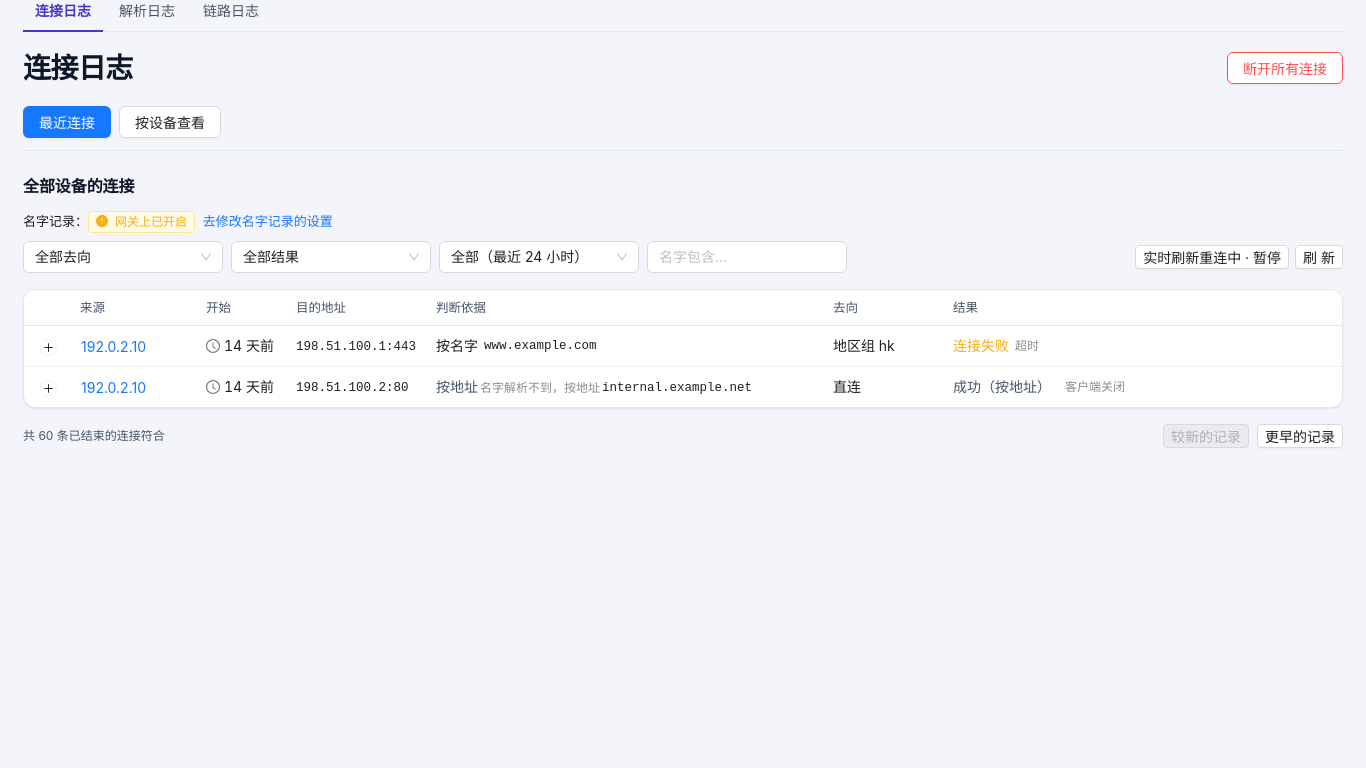
Test: opens a query without waiting for device counts and confirms disconnecting active connections
This screenshot has width=1366, height=768.
Click the button "断开所有连接" at (1285, 68), box [1227,52,1343,84]
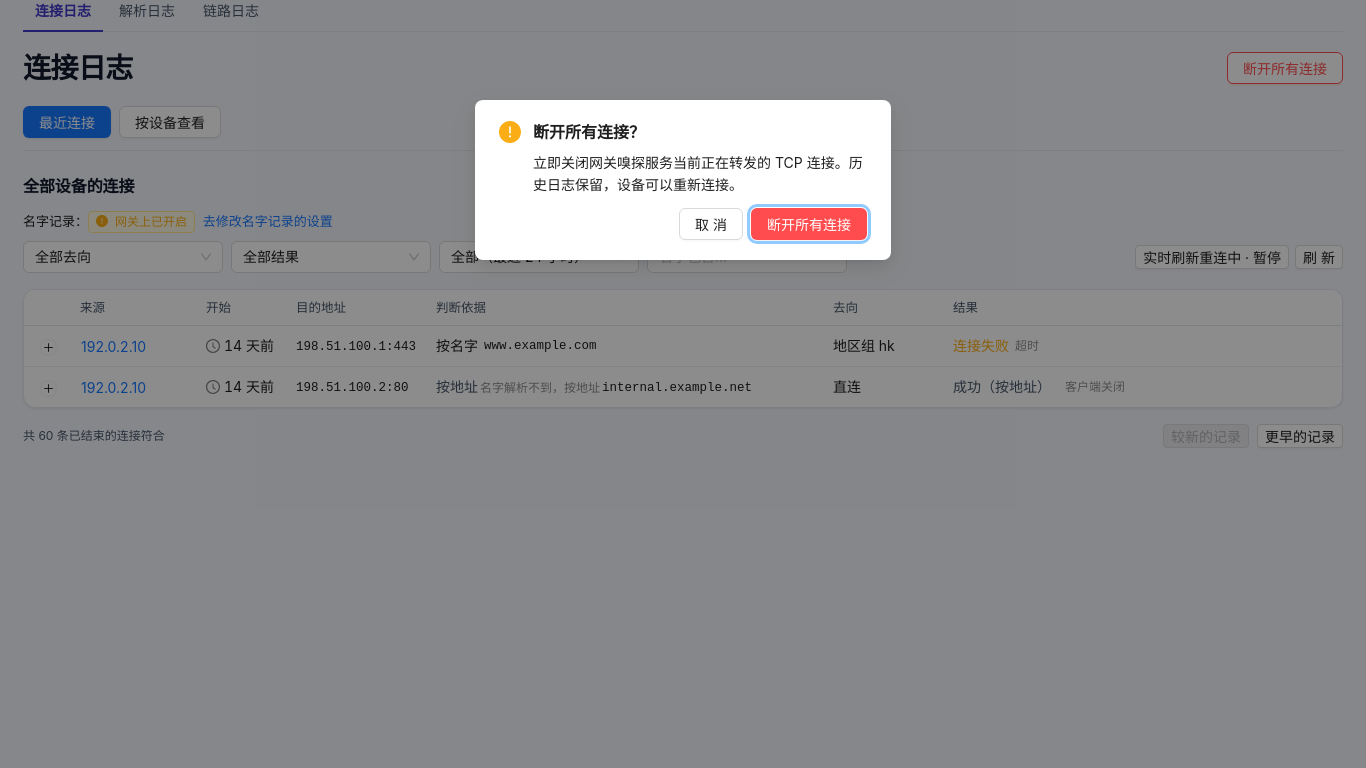
Click the button "断开所有连接" at (809, 224), box [751,208,867,240]
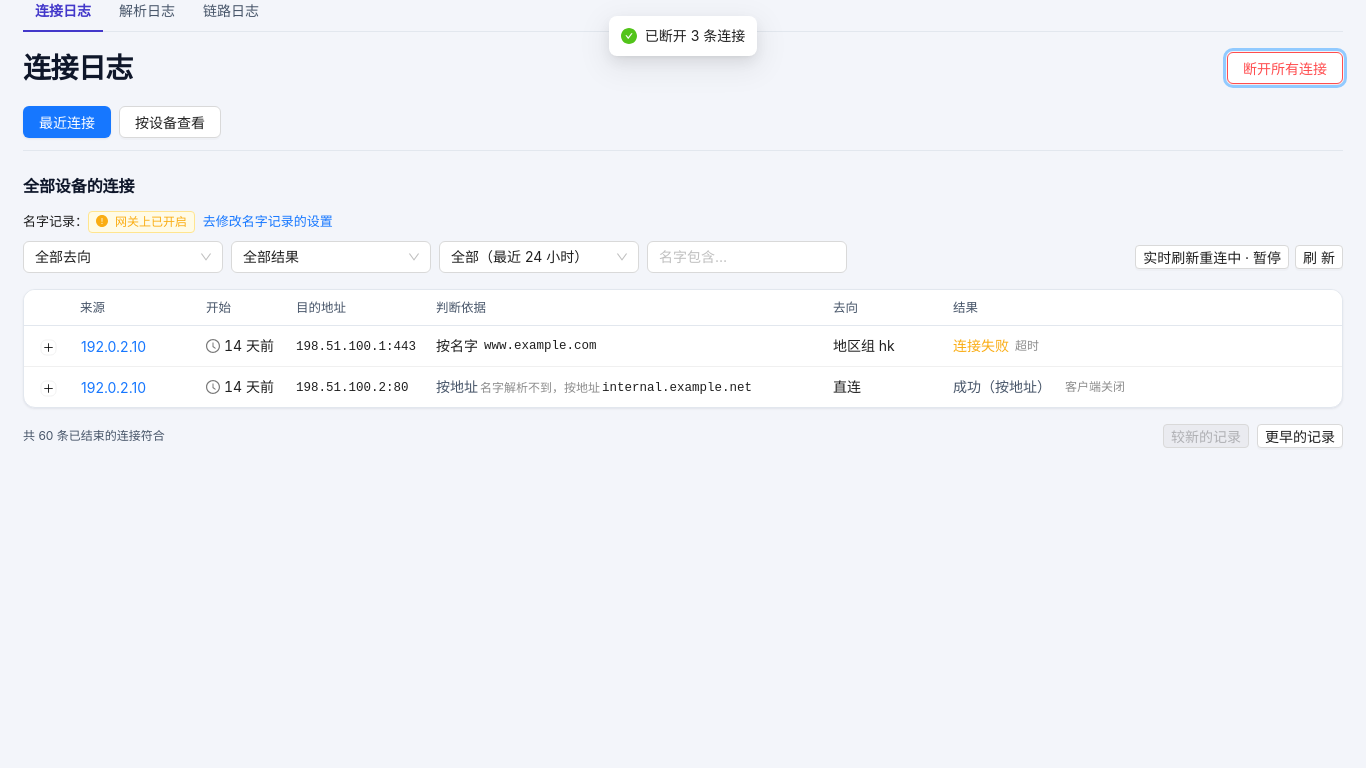
Now the text "已断开 3 条连接" is shown, box [645,25,745,47]
